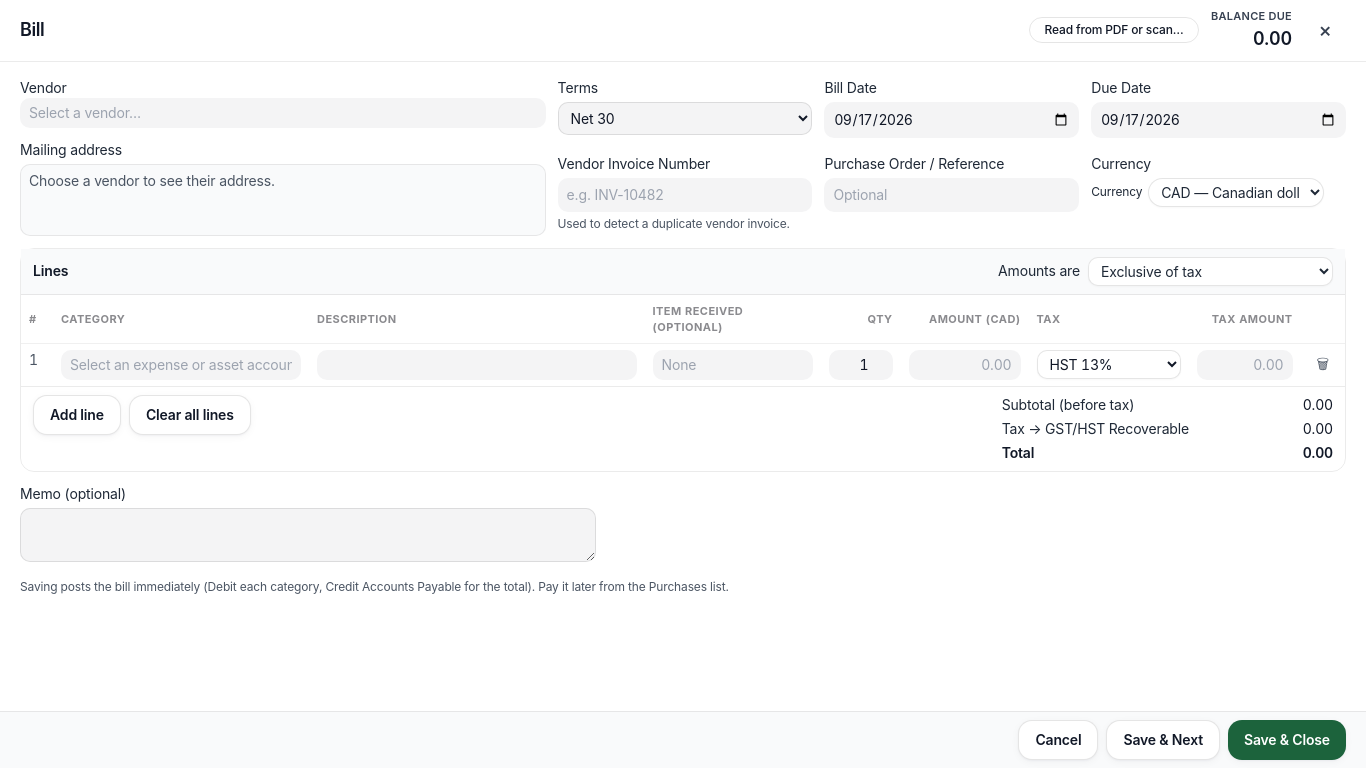
BillFormModal vendor selection › explains that a vendor must be selected instead of silently disabling Save
The width and height of the screenshot is (1366, 768).
Click the button "Save & Close" at [1287, 740], box 1228,720 -> 1346,760
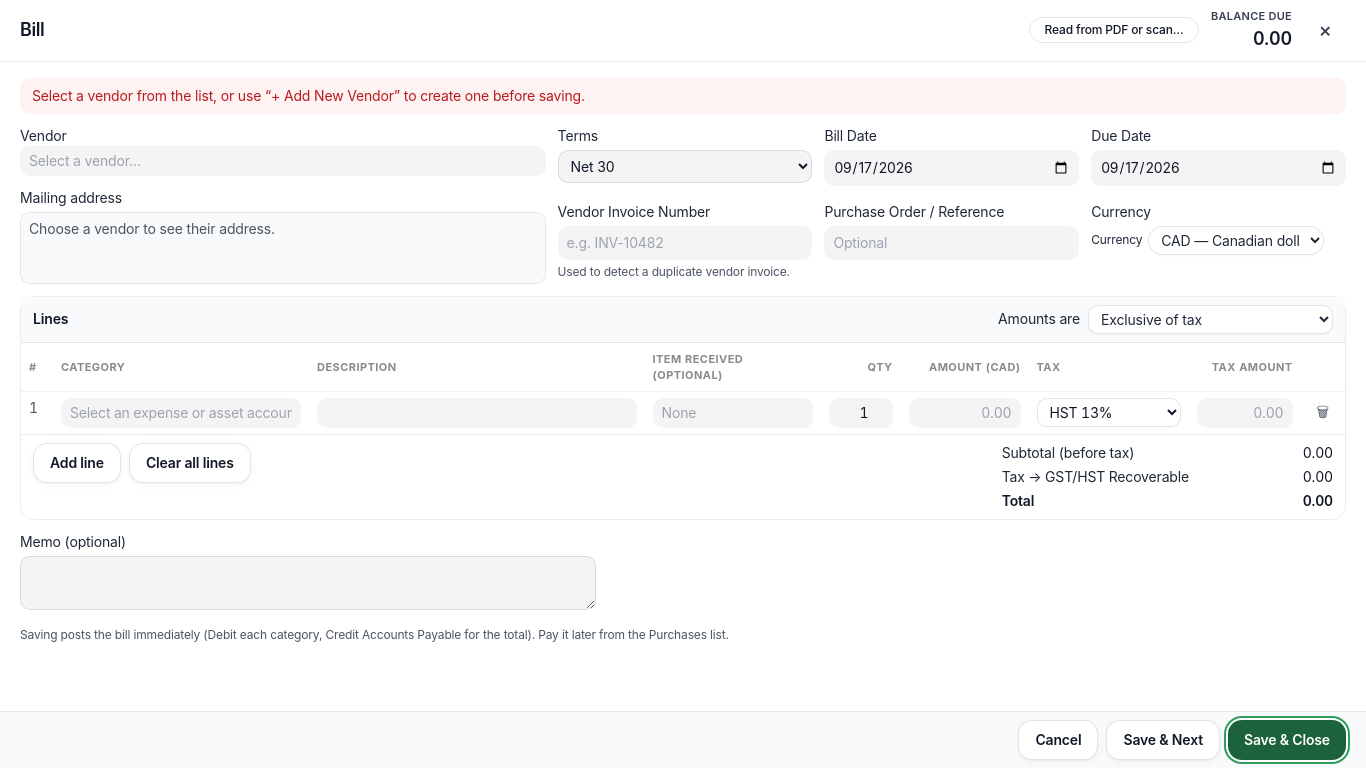
Check: the text "Select a vendor from the list" is shown, box 32,86 -> 585,104
